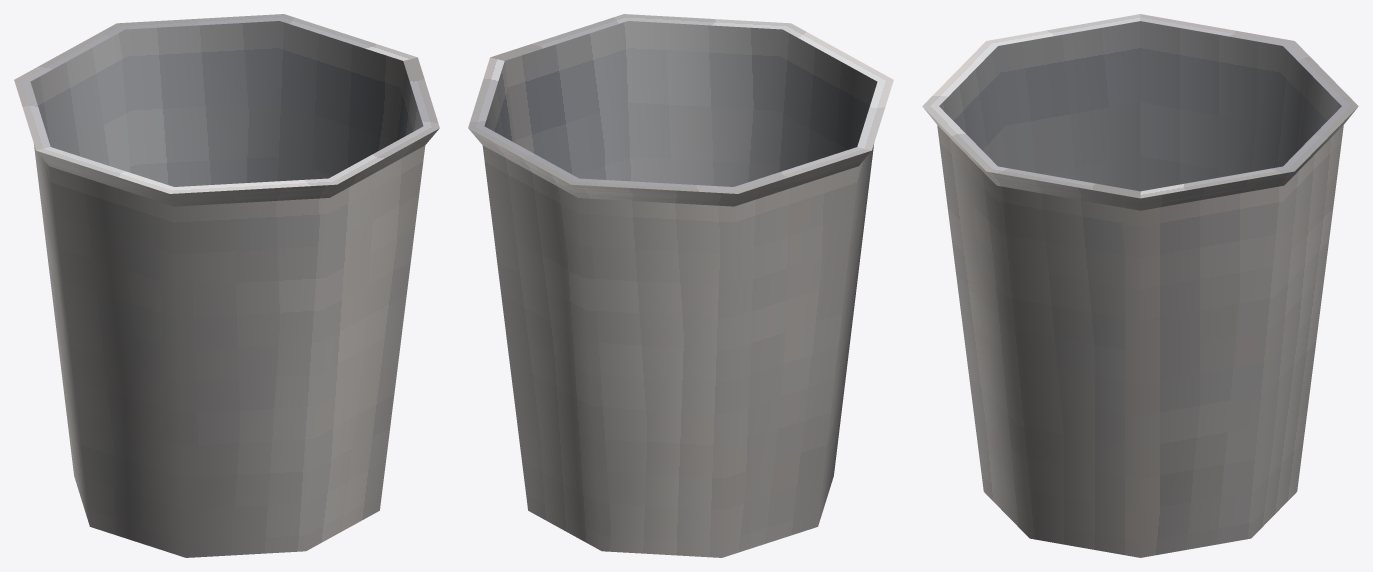
File: wine-bucket.glb
The picture shows the model from 3 angles, left to right: view 1: azimuth 30°, elevation 25°; view 2: azimuth 150°, elevation 25°; view 3: azimuth 270°, elevation 25°; orthographic projection.
Parts seen in each view (by area): view 1: wine-bucket; view 2: wine-bucket; view 3: wine-bucket.
Part boxes in pixels (<box>): wine-bucket: <box>14,14,439,557</box>; wine-bucket: <box>468,14,893,557</box>; wine-bucket: <box>922,14,1358,557</box>.
Size of the model in its own units: 0.234 by 0.228 by 0.234.
Materials: 1 (1 with a texture image).
